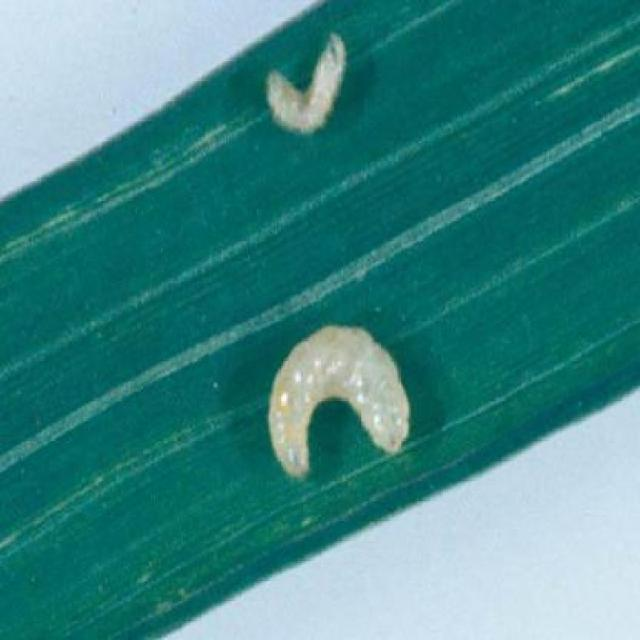whorl-maggot: (264, 308, 418, 486), (264, 32, 356, 133)
